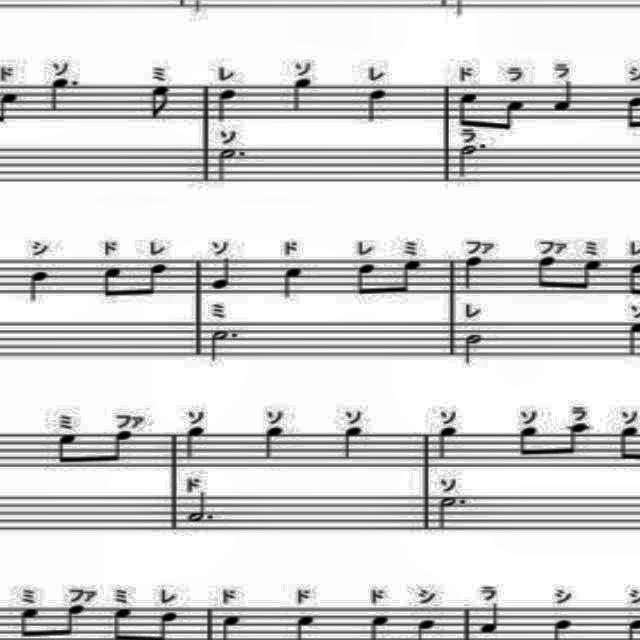Eighth-note: (351, 256, 382, 300), (138, 260, 170, 300), (572, 255, 604, 295), (562, 421, 594, 461), (59, 602, 92, 640), (395, 255, 423, 299), (531, 253, 561, 294), (96, 264, 128, 302), (146, 82, 174, 124), (110, 426, 138, 468), (457, 86, 483, 130), (612, 424, 640, 464), (498, 95, 526, 134), (514, 422, 542, 458), (54, 429, 78, 469), (16, 604, 42, 640)
Half-dot: (212, 142, 250, 182), (185, 489, 223, 527), (438, 492, 470, 536), (454, 140, 490, 178), (204, 326, 240, 364)
Half-note: (462, 330, 490, 370)
Quarter-dot: (43, 74, 81, 114)
Quarter-note: (262, 422, 290, 468), (363, 82, 392, 122), (280, 264, 308, 304), (180, 422, 208, 462), (548, 77, 576, 115), (26, 268, 54, 306), (210, 253, 238, 291), (461, 252, 487, 292), (213, 86, 241, 122), (288, 76, 314, 114), (341, 422, 363, 466), (436, 423, 458, 462)
